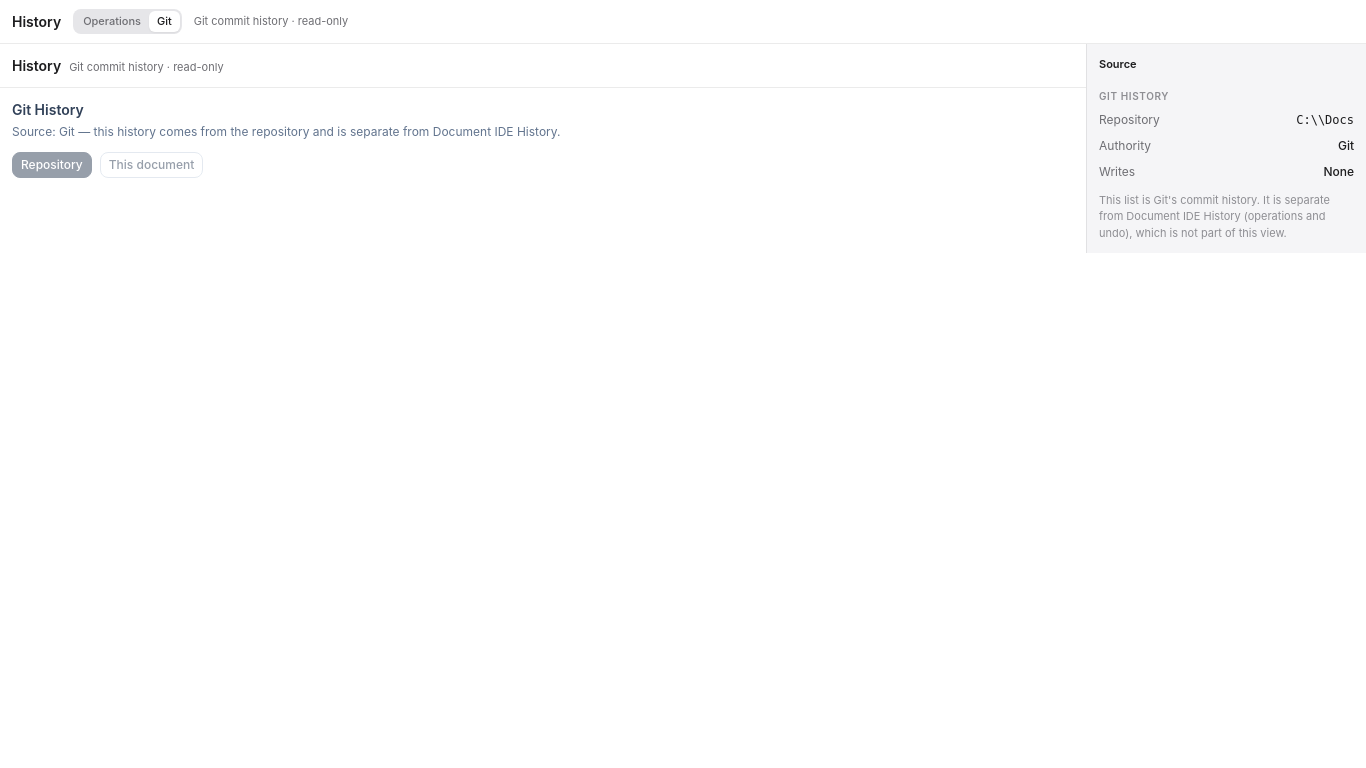
it: HistoryScreen (UI-03 screen 10) › shows the selected operation detail in the inspector without inventing fields
Click the radio button labelled "Operations" at (112,22), box left=75, top=11, right=149, bottom=32
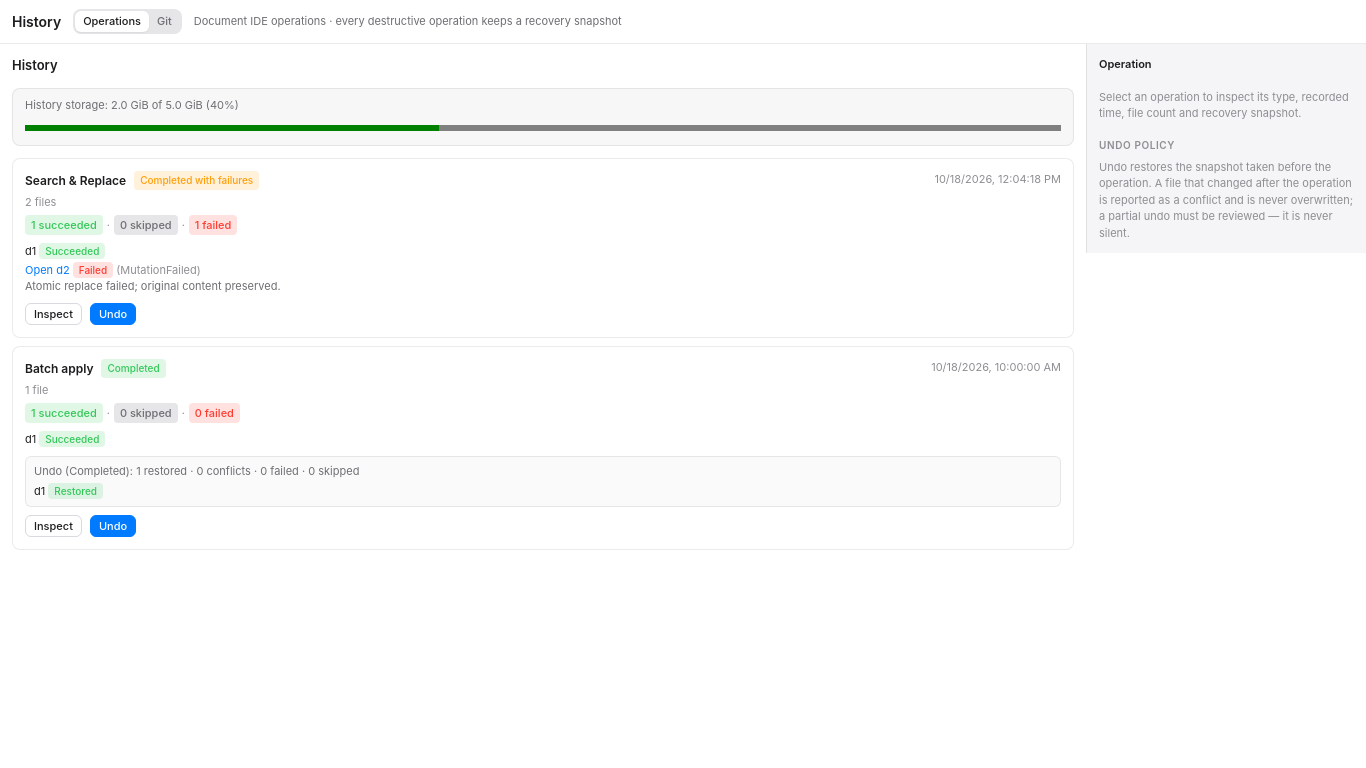
Click the button "Inspect" below "Search & Replace" at (53,314), box left=25, top=302, right=82, bottom=325
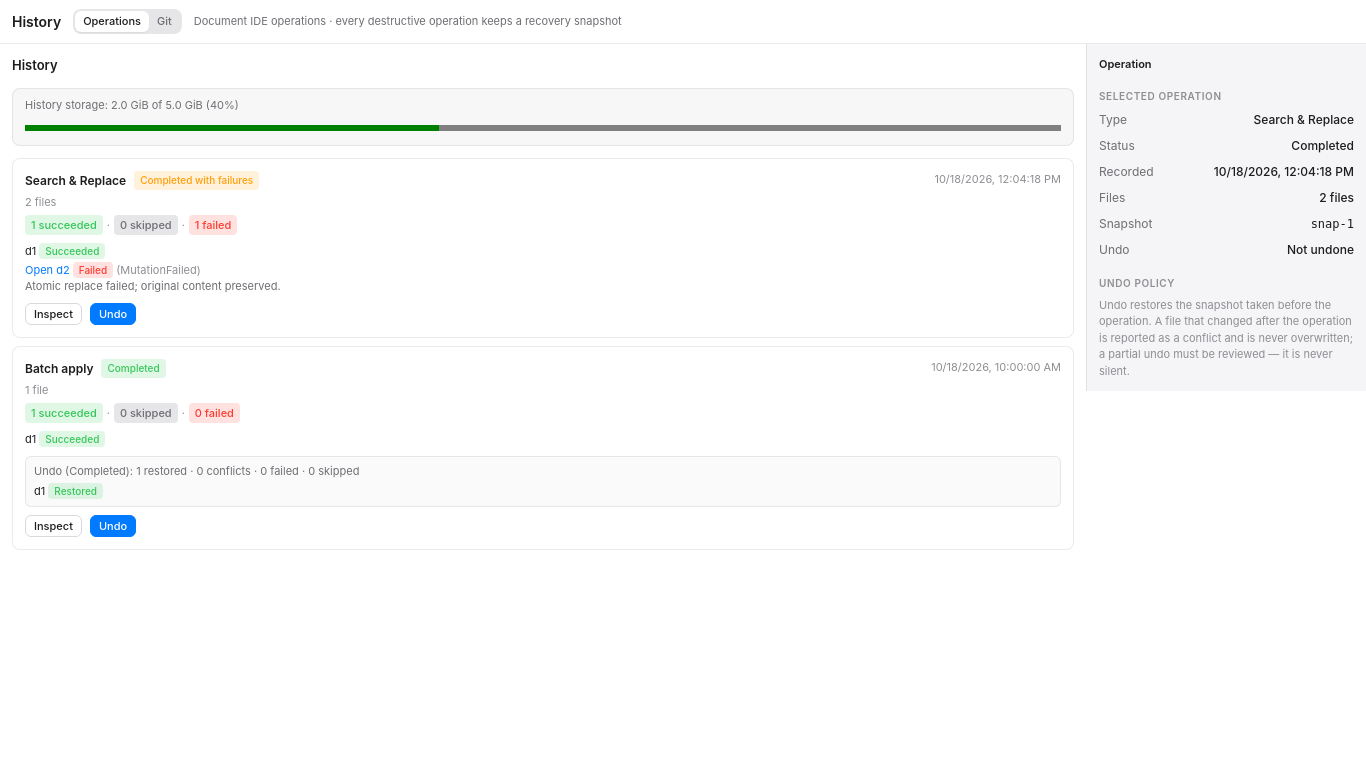
Now the number of elements with test id "history-storage-usage" is 1, box left=25, top=98, right=239, bottom=112
Now the text "Search & Replace" is shown, box left=1254, top=112, right=1354, bottom=128
Now the text "snap-1" is shown, box left=1311, top=216, right=1354, bottom=230
